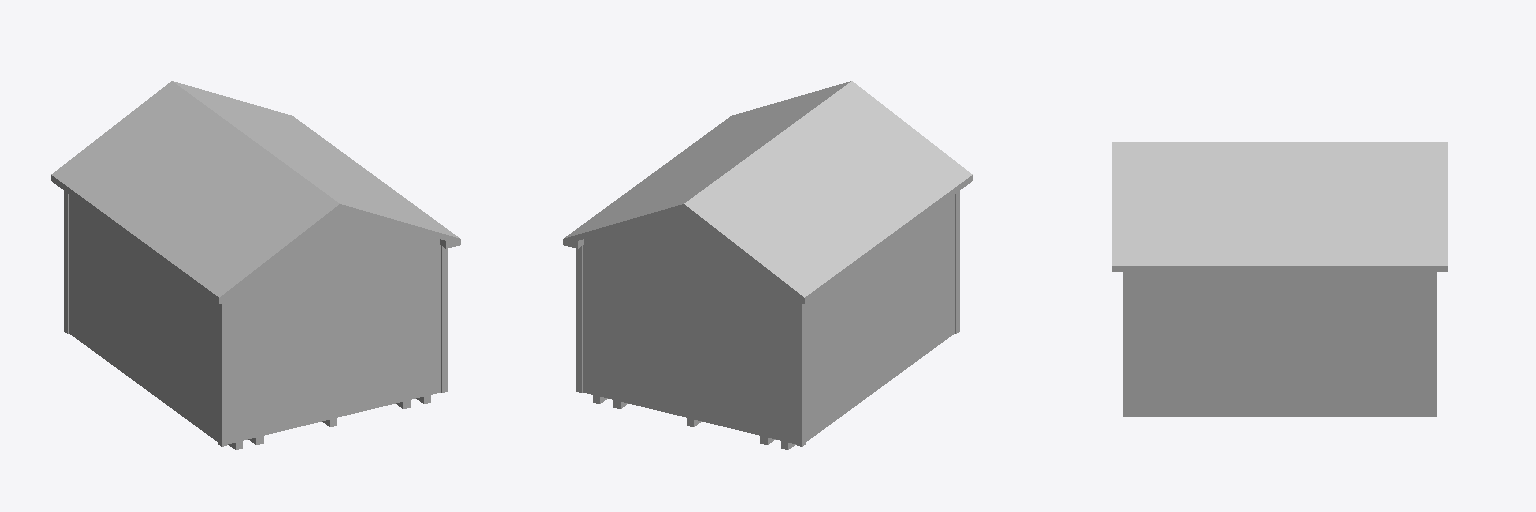
Rendered from Classic A-Frame_10x12.obj.
3 renders of one model, left to right at view 1: azimuth 30°, elevation 25°; view 2: azimuth 150°, elevation 25°; view 3: azimuth 270°, elevation 25°, orthographic.
Parts seen in each view (by area): view 1: Classic A-Frame_10x12.obj; view 2: Classic A-Frame_10x12.obj; view 3: Classic A-Frame_10x12.obj.
Part boxes in pixels (x1,y1,x2,y2): Classic A-Frame_10x12.obj: (51, 81, 460, 449); Classic A-Frame_10x12.obj: (563, 81, 972, 449); Classic A-Frame_10x12.obj: (1112, 142, 1447, 416).
Size of the model in its own units: 3.29 by 2.96 by 3.96.